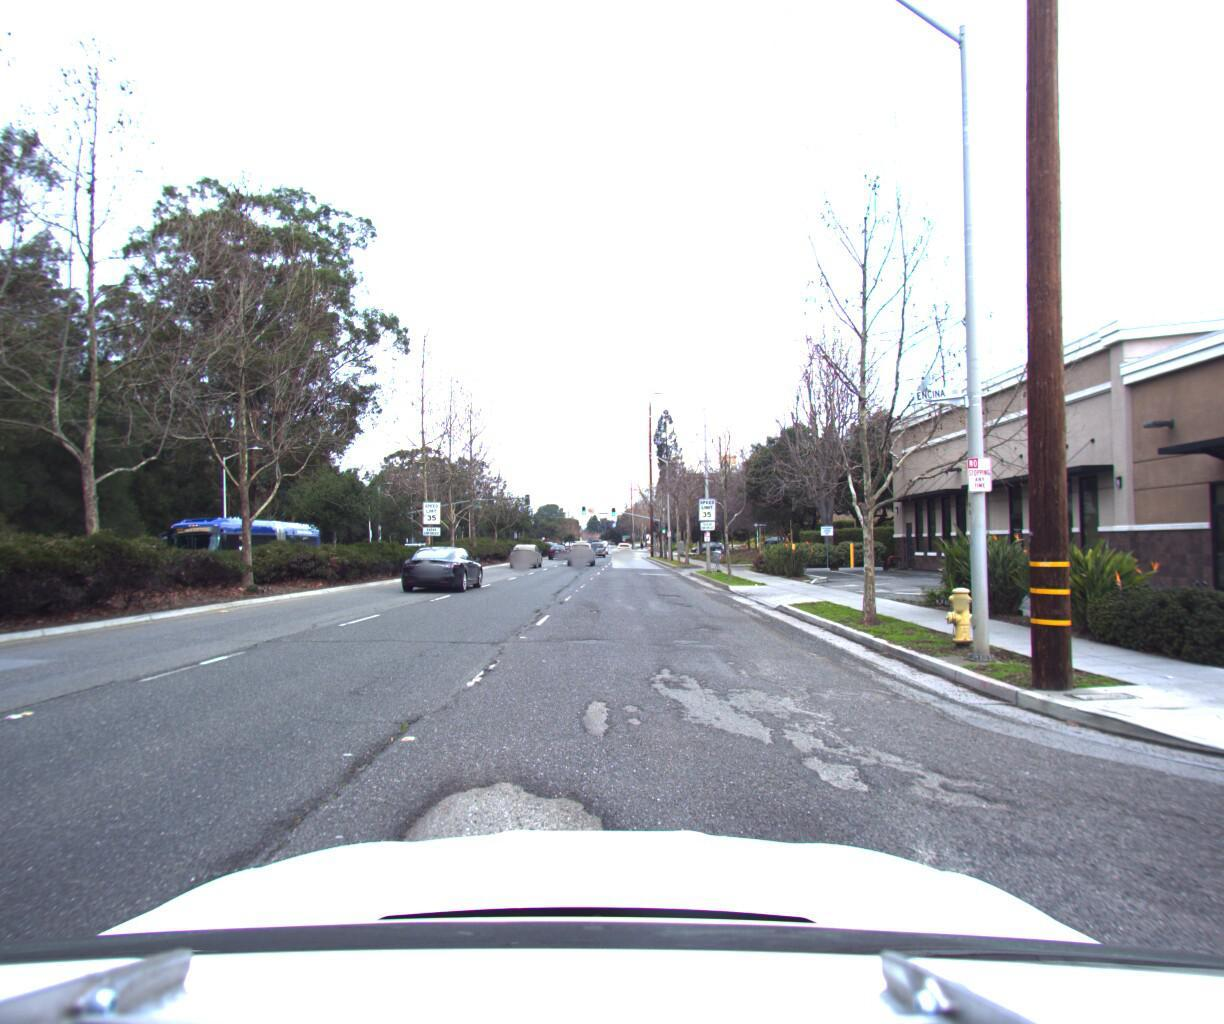bus: (166, 504, 323, 571)
car: (395, 538, 485, 590), (514, 535, 552, 560), (565, 531, 594, 557), (548, 535, 571, 551)
